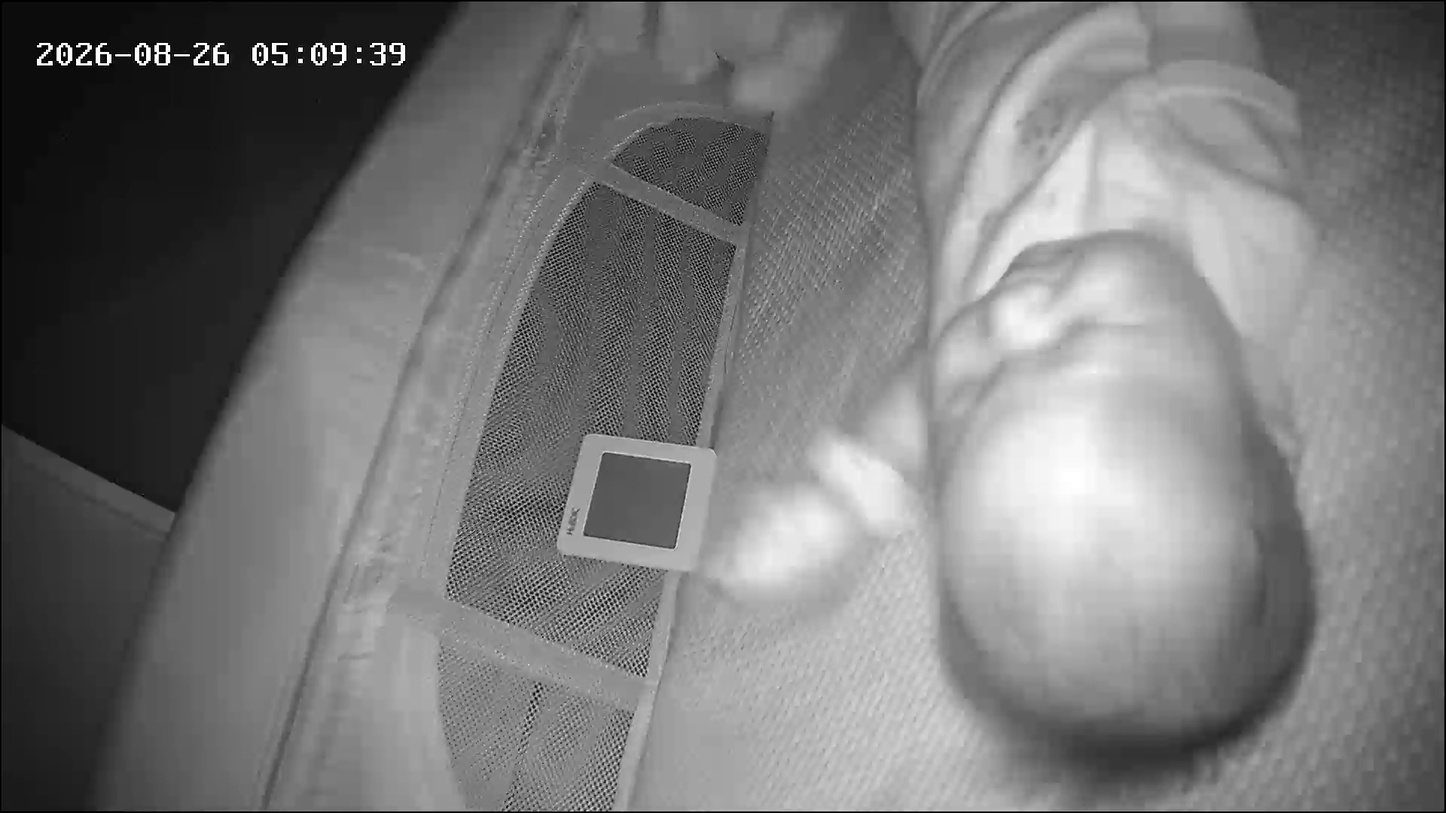baby: (791, 2, 1349, 796)
baby_face: (893, 219, 1324, 777)
